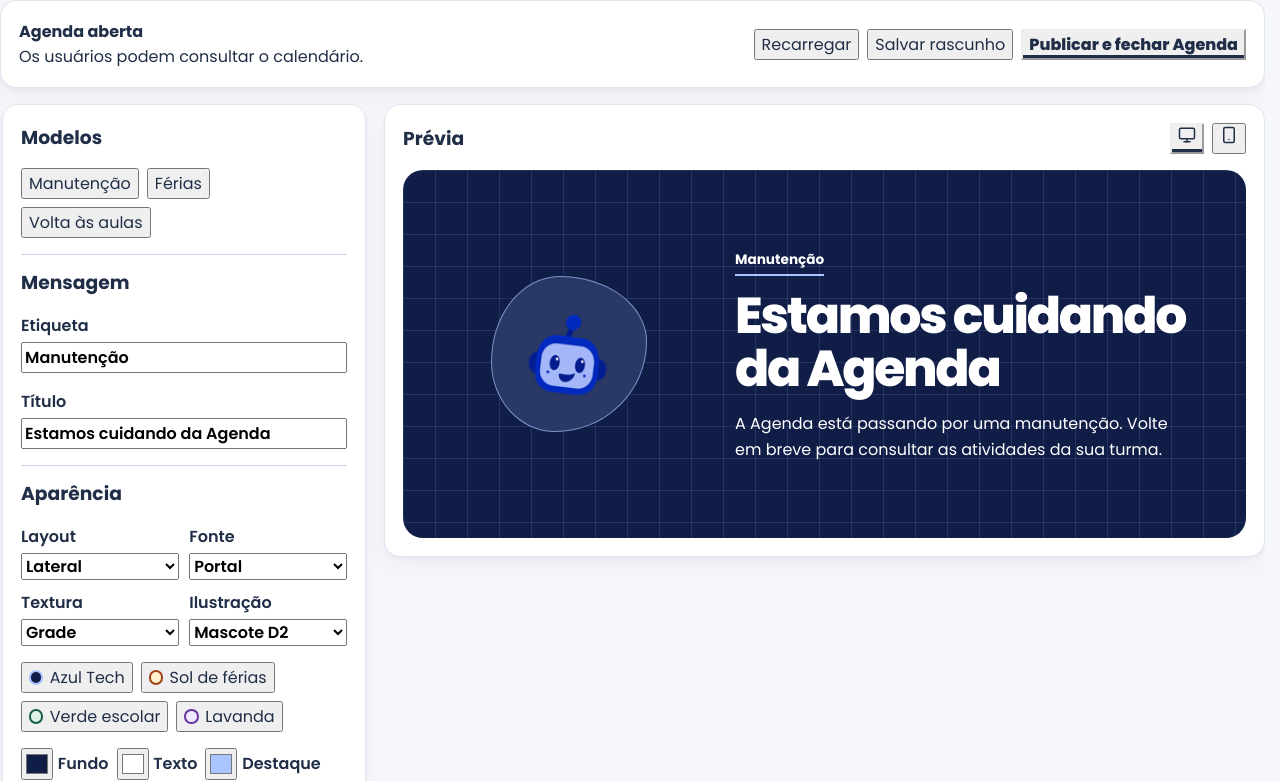
Test: previews a custom title, saves a private draft and requires confirmation before closing
Replace the text in the field labelled "Título" with "Recesso de dezembro" at (184, 433), box [21,418,347,449]
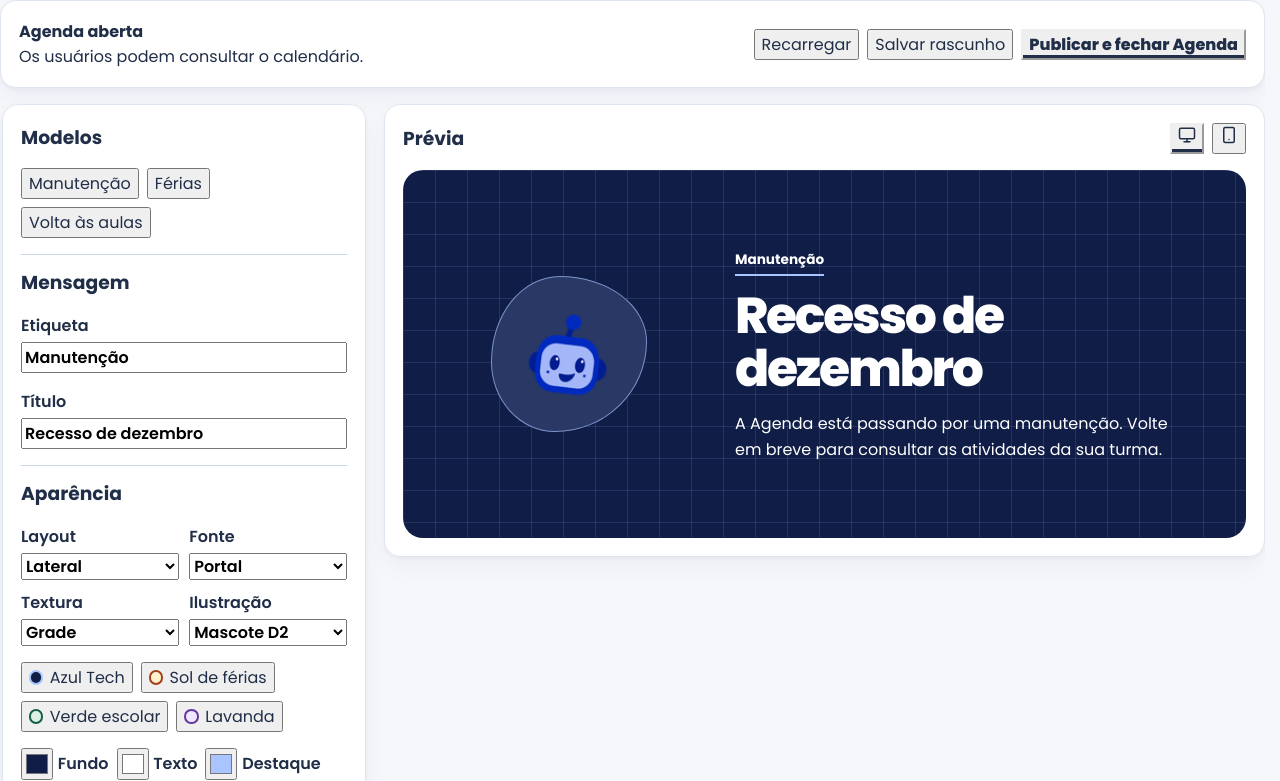
Result: the heading "Recesso de dezembro" is shown at [735,280,1003,404]
Click the button named "Prévia no celular" at (1229, 138), box [1212,123,1246,154]
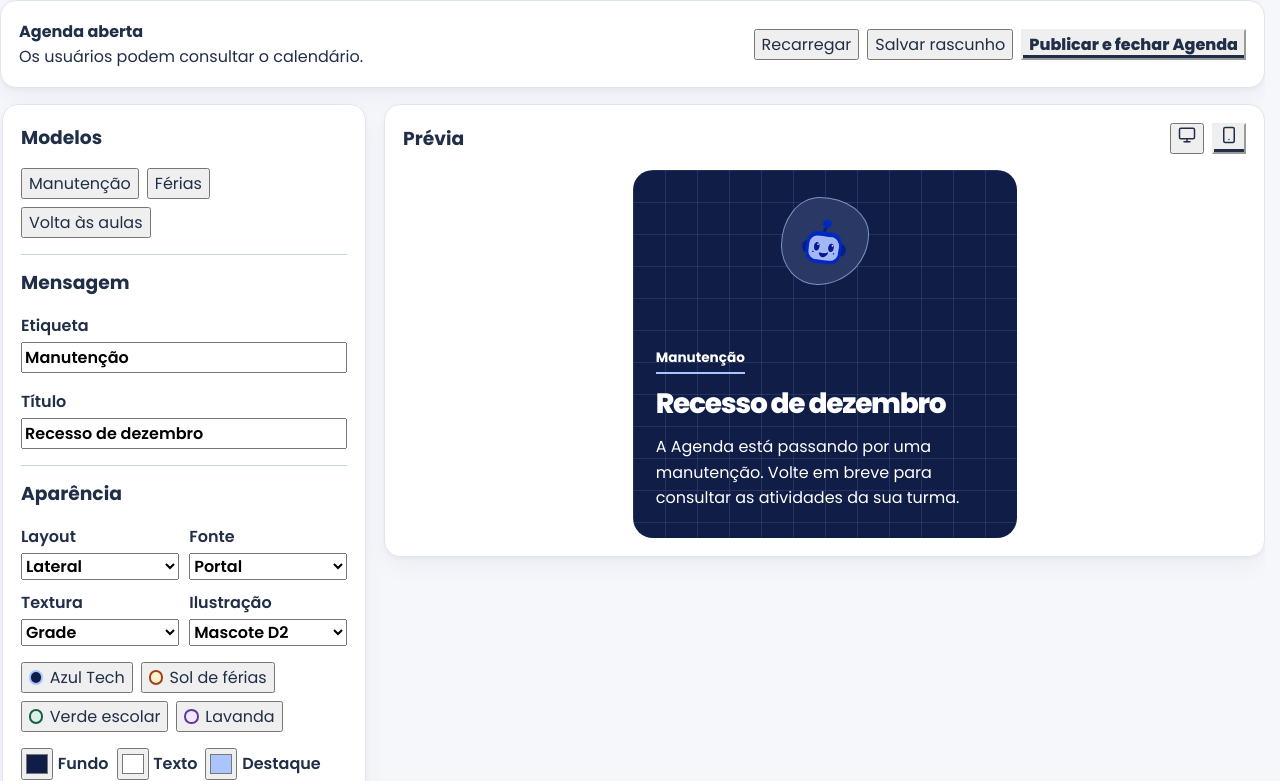
Result: the button named "Prévia no celular" is pressed at [1212,123,1246,154]
Click the button "Salvar rascunho" at (940, 44), box [867,28,1013,60]
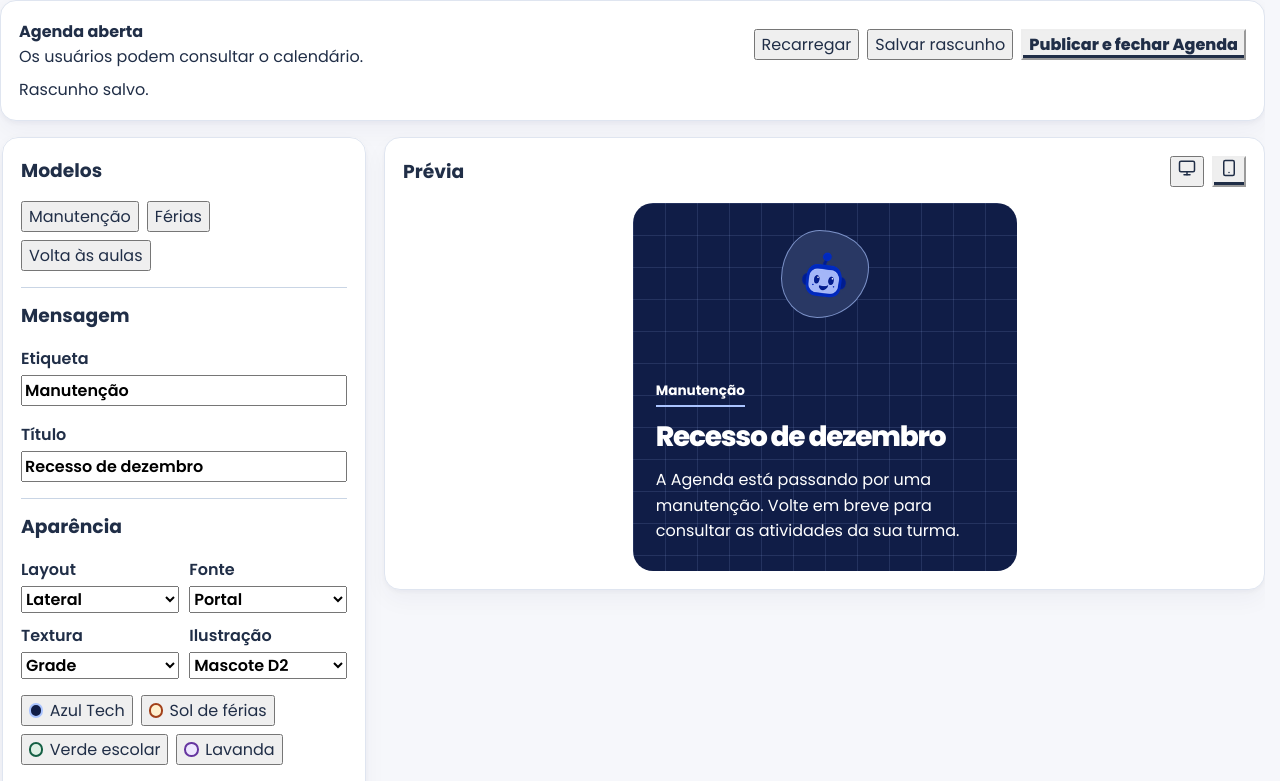
Expected: the text "Agenda aberta" is shown, [19,20,143,43]
Result: the text "Rascunho salvo." is shown at [19,78,148,101]
Click the button "Publicar e fechar Agenda" at (1134, 44), box [1021,28,1246,60]
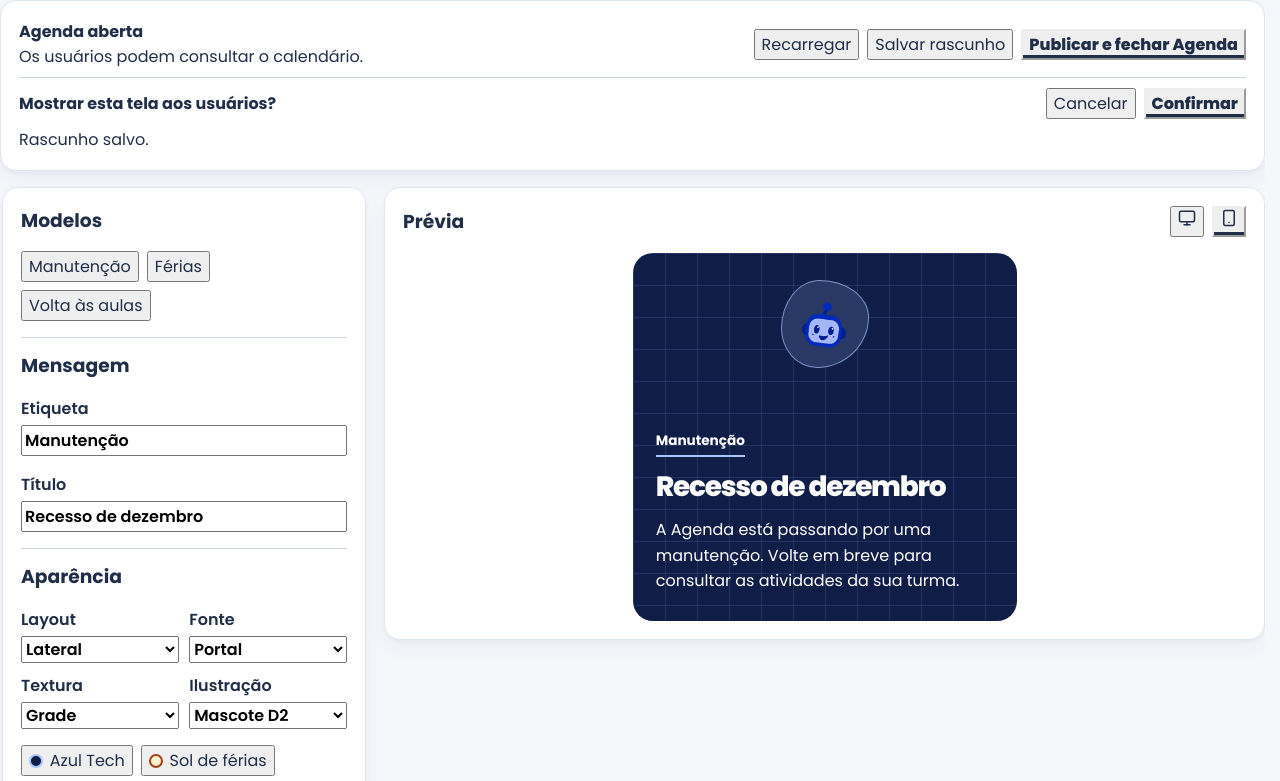
Click the button "Confirmar" at (1195, 104), box [1144,88,1246,119]
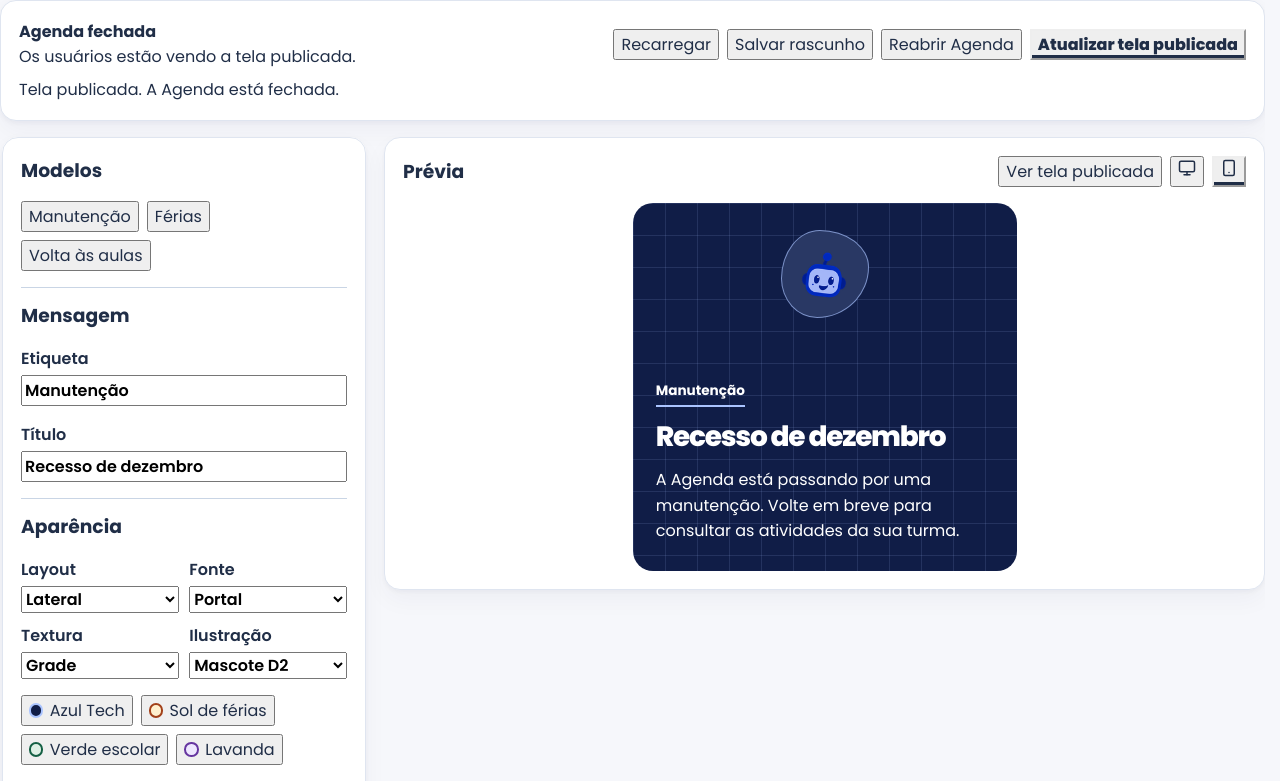
Result: the text "Agenda fechada" is shown at [19,20,156,43]
